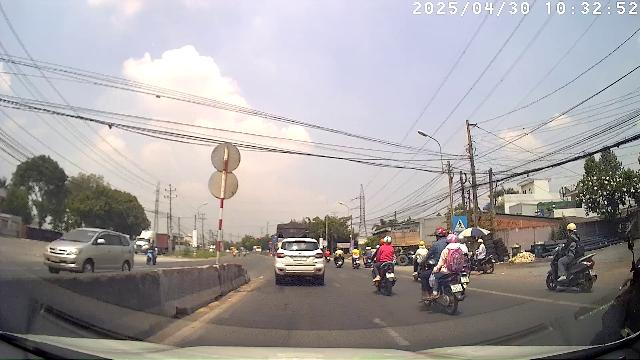423a-duong-nguoi-di-bo-sang-ngang-1: (452, 216, 468, 232)
